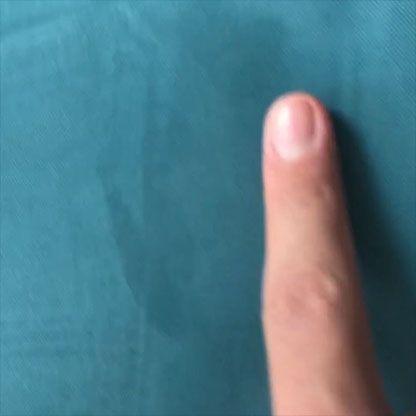fingertip: (241, 71, 351, 177)
